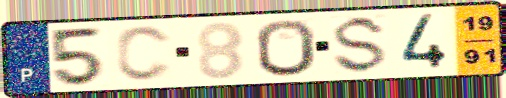4: (398, 11, 451, 72)
5: (49, 24, 111, 88)
8: (195, 19, 247, 82)
C: (114, 24, 175, 84)
O: (253, 18, 319, 78)
S: (329, 13, 391, 76)
